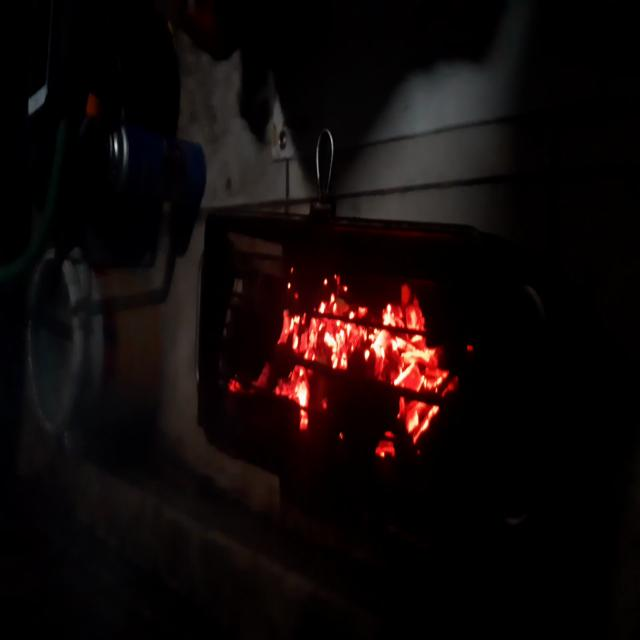Fire: (210, 237, 461, 475)
